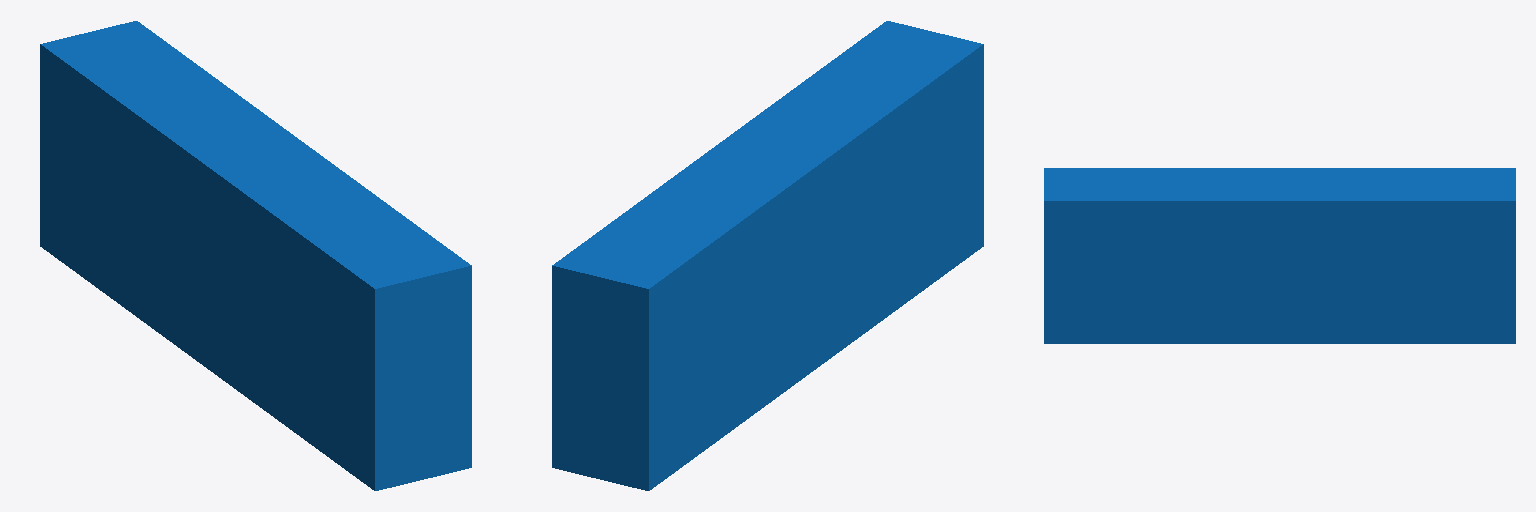
robot.urdf — cuboid1:
<?xml version="0.0" ?>
<robot name="cuboid1">
  <link name="baseLink">
    <contact>
      <lateral_friction value="1.0"/>
      <rolling_friction value="0.0"/>
      <contact_cfm value="0.0"/>
      <contact_erp value="1.0"/>
    </contact>  
    <inertial>
      <mass value="0.025"/>
      <origin rpy="0 0 0" xyz="0 0 0"/>
      <inertia ixx="2.34e-6" ixy="0" ixz="0" iyy="1.73e-5" iyz="0" izz="1.88e-05"/>
    </inertial>
    <visual>
      <origin rpy="0 0 0" xyz="0 0 0"/>
      <geometry>
        <mesh filename="meshes/cuboid1.obj"/>
      </geometry>
      <material name="white">
        <color rgba="0.1 0.5 0.8 1"/>
      </material>
    </visual>
    <collision>
      <origin rpy="0 0 0" xyz="0 0 0"/>
      <geometry>
        <mesh filename="meshes/cuboid1.obj"/>
      </geometry>
    </collision>
  </link>
</robot>

--- What the picture shows (computed from the rendered views, not written in the file) ---
Views: 3 orthographic renders of the robot side by side, from view 1: azimuth 30°, elevation 25°; view 2: azimuth 150°, elevation 25°; view 3: azimuth 270°, elevation 25°.
Robot: cuboid1 — 1 links, 0 joints (none); root link baseLink; default pose: all joints at 0.
Visible links, largest first — view 1: baseLink; view 2: baseLink; view 3: baseLink.
Link boxes in pixels (x1=…): baseLink: x1=40, y1=21, x2=471, y2=490; baseLink: x1=552, y1=21, x2=983, y2=490; baseLink: x1=1044, y1=168, x2=1515, y2=343.
Size in the robot's own frame: 0.015 by 0.09 by 0.03 metres.
1 mesh visuals loaded from 1 distinct referenced files (1 OBJ).